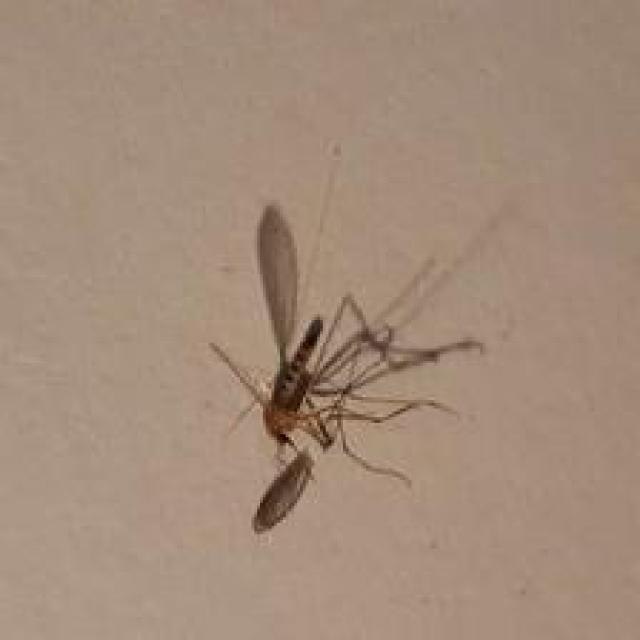Culex: (204, 141, 510, 536)
